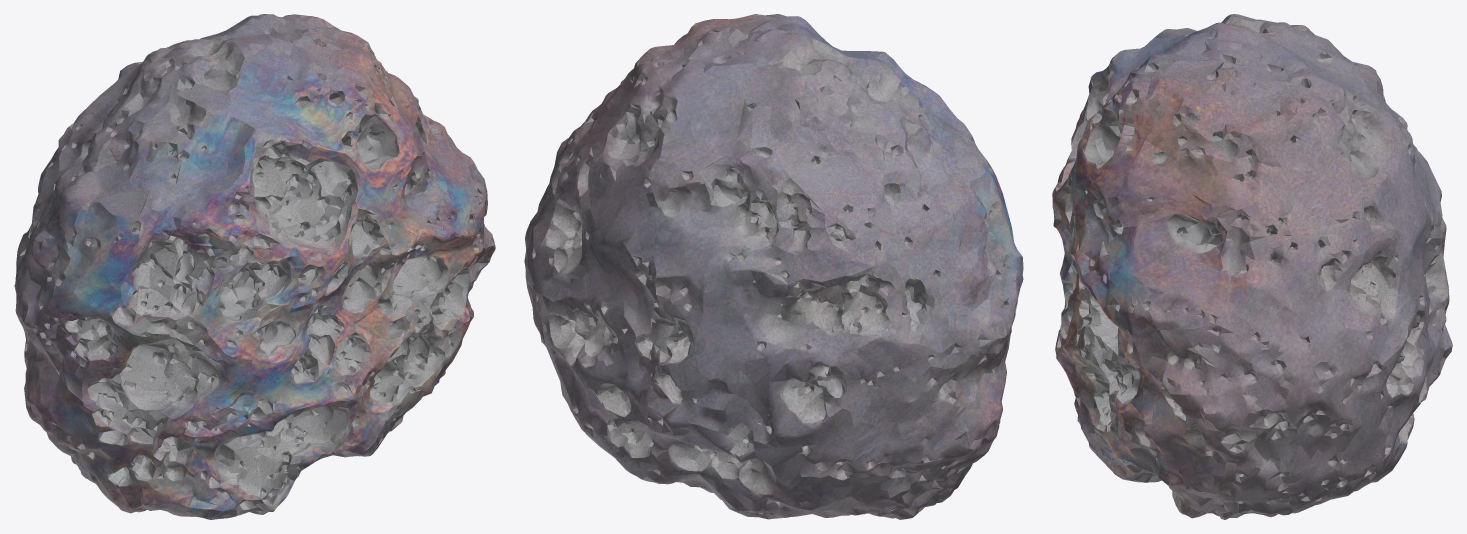
3 renders of one model, left to right at view 1: azimuth 30°, elevation 25°; view 2: azimuth 150°, elevation 25°; view 3: azimuth 270°, elevation 25°, orthographic. The views are drawn at different scales.
Parts seen in each view (by area): view 1: Mesh_0; view 2: Mesh_0; view 3: Mesh_0.
Part boxes in pixels (<box>): Mesh_0: <box>14,14,495,519</box>; Mesh_0: <box>524,14,1023,519</box>; Mesh_0: <box>1052,14,1452,519</box>.
Size of the model in its own units: 1.9 by 1.76 by 1.39.
1 material, 1 textured.
